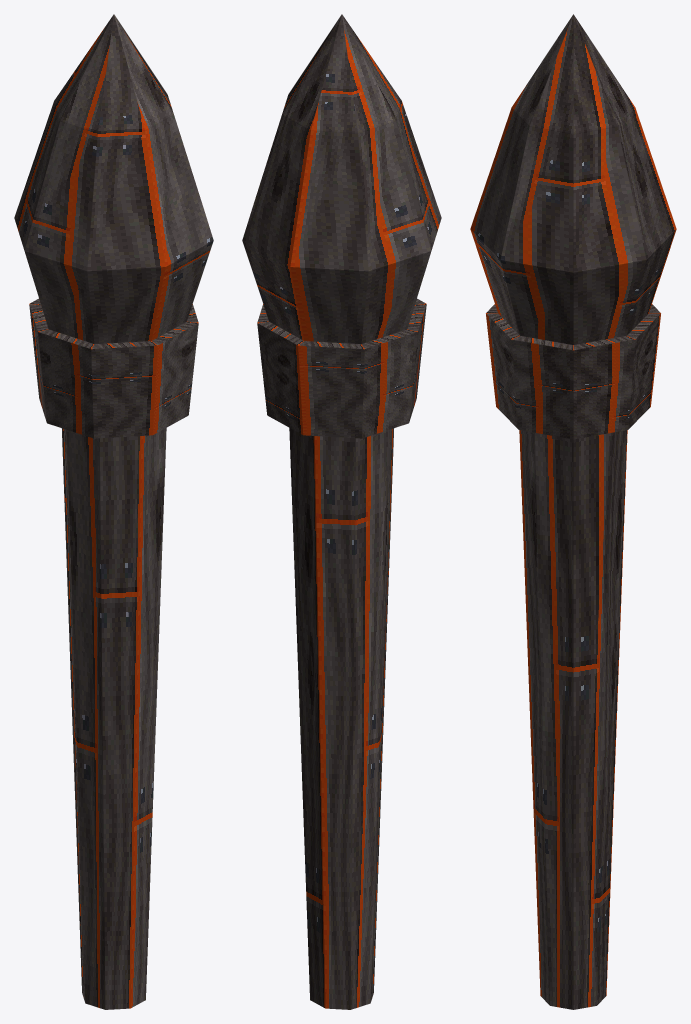
Rendered from tocha_de_betume.glb.
3 renders of one model, left to right at view 1: azimuth 30°, elevation 25°; view 2: azimuth 150°, elevation 25°; view 3: azimuth 270°, elevation 25°, orthographic.
Visible parts, largest first — view 1: tocha_de_betume; view 2: tocha_de_betume; view 3: tocha_de_betume.
Part boxes in pixels (x1,y1,x2,y2): tocha_de_betume: (14, 14, 213, 1009); tocha_de_betume: (242, 14, 441, 1009); tocha_de_betume: (470, 14, 676, 1009).
Size of the model in its own units: 0.2 by 1.05 by 0.2.
Materials: 1 (1 with a texture image).
